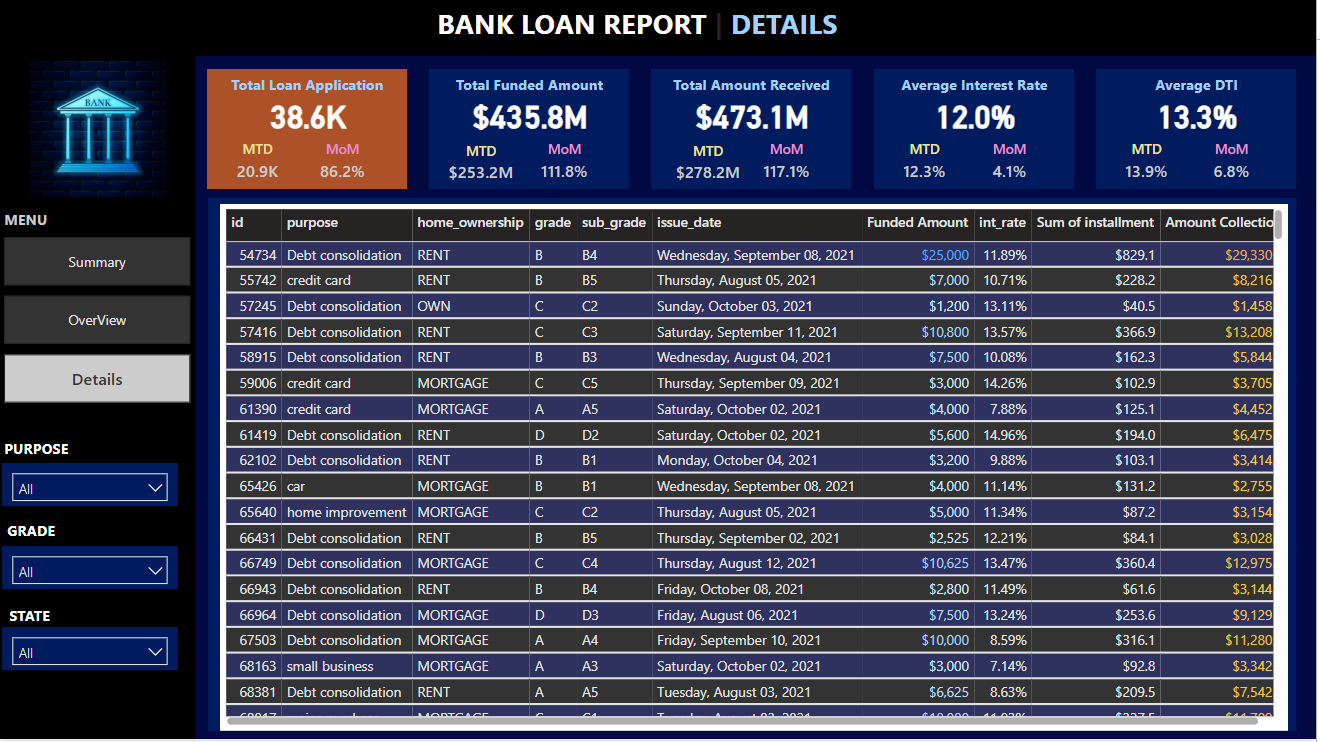

This screenshot's page, from the dashboard's own definition file:
{"tool":"powerbi","page":{"name":"Details","canvas":[1280,720],"ordinal":2},"visuals":[{"type":"shape","box":[0,52.5,191.5,667.7],"z":0},{"type":"textbox","box":[4.5,583.4,187.9,28.9],"z":0,"group":"g7"},{"type":"shape","box":[0,0,1280,55],"z":1000},{"type":"slicer","fields":{"Values":["Bank_Loan_Data.address_state"]},"box":[2.7,610.4,171.4,42.4],"z":1000,"group":"g7"},{"type":"textbox","box":[421.2,0,452.3,52.5],"z":2000},{"type":"slicer","fields":{"Values":["Bank_Loan_Data.purpose"]},"box":[2.7,450.6,171.4,42.4],"z":2000,"group":"g7"},{"type":"group","id":"g1","title":"Group 1","box":[202.3,68.1,195.5,116.7],"z":3000},{"type":"shape","box":[202.3,68.1,194.5,116.7],"z":3000,"group":"g1"},{"type":"shape","box":[418.2,68.1,194.5,116.7],"z":3000,"group":"g2"},{"type":"shape","box":[634.2,68.1,194.5,116.7],"z":3000,"group":"g3"},{"type":"shape","box":[850.1,68.1,194.5,116.7],"z":3000,"group":"g4"},{"type":"shape","box":[1066,68.1,194.5,116.7],"z":3000,"group":"g5"},{"type":"slicer","fields":{"Values":["Bank_Loan_Data.grade"]},"box":[2.7,531.4,171.4,42.4],"z":3000,"group":"g7"},{"type":"group","id":"g2","title":"Group 1","box":[418.2,68.1,195.5,116.7],"z":4000},{"type":"textbox","box":[2.7,500.6,187.9,28.9],"z":4000,"group":"g7"},{"type":"group","id":"g3","title":"Group 1","box":[634.2,68.1,195.5,116.7],"z":5000},{"type":"group","id":"g4","title":"Group 1","box":[850.1,68.1,195.5,116.7],"z":6000},{"type":"textbox","box":[0,421.4,188.1,28.9],"z":6000,"group":"g7"},{"type":"group","id":"g5","title":"Group 1","box":[1066,68.1,195.5,116.7],"z":7000},{"type":"textbox","box":[0,199.3,200,29.2],"z":7000,"group":"g6"},{"type":"shape","box":[203.1,193.4,1058.4,518],"z":7500},{"type":"tableEx","fields":{"Values":["Bank_Loan_Data.id","Bank_Loan_Data.purpose","Bank_Loan_Data.home_ownership","Bank_Loan_Data.grade","Bank_Loan_Data.sub_grade","Bank_Loan_Data.issue_date","Sum(Bank_Loan_Data.loan_amount)","Bank_Loan_Data.int_rate","Sum(Bank_Loan_Data.installment)","Sum(Bank_Loan_Data.total_payment)"]},"box":[214.8,199.2,1038,512.2],"z":8001},{"type":"group","id":"g6","title":"Group 3","box":[0,55.4,200,597.3],"z":8002},{"type":"image","box":[10.7,55.4,171.7,141.9],"z":9000,"group":"g6"},{"type":"card","fields":{"Values":["Analysis.Total_application"]},"box":[203.3,87.6,194.5,49.6],"z":9000,"group":"g1"},{"type":"card","fields":{"Values":["Analysis.Total funded amount"]},"box":[419.2,87.6,194.5,49.6],"z":9000,"group":"g2"},{"type":"card","fields":{"Values":["Analysis.Total Amount Received"]},"box":[635.2,87.6,194.5,49.6],"z":9000,"group":"g3"},{"type":"card","fields":{"Values":["Analysis.Avg Int Rate"]},"box":[851.1,87.6,194.5,49.6],"z":9000,"group":"g4"},{"type":"card","fields":{"Values":["Analysis.AVG DTI"]},"box":[1067,87.6,194.5,49.6],"z":9000,"group":"g5"},{"type":"pageNavigator","box":[4.9,231.3,181.7,163.3],"z":11001},{"type":"group","id":"g7","title":"Group 2","box":[0,421.4,192.4,231.3],"z":11002,"group":"g6"},{"type":"textbox","box":[202.3,68.1,195.5,29.2],"z":13000,"group":"g1"},{"type":"textbox","box":[418.2,68.1,195.5,29.2],"z":13000,"group":"g2"},{"type":"textbox","box":[634.2,68.1,195.5,29.2],"z":13000,"group":"g3"},{"type":"textbox","box":[850.1,68.1,195.5,29.2],"z":13000,"group":"g4"},{"type":"textbox","box":[1066,68.1,195.5,29.2],"z":13000,"group":"g5"},{"type":"card","title":"MTD","fields":{"Values":["Analysis.MTD Loan Application"]},"box":[217.9,137.2,67.1,47.7],"z":14000,"group":"g1"},{"type":"card","title":"MTD","fields":{"Values":["Analysis.MTD AVG int rate"]},"box":[865.7,137.2,67.1,47.7],"z":14000,"group":"g4"},{"type":"card","title":"MTD","fields":{"Values":["Analysis.MTD AVG DTI"]},"box":[1081.6,137.2,67.1,47.7],"z":14000,"group":"g5"},{"type":"card","title":"MTD","fields":{"Values":["Analysis.MTD funded application"]},"box":[430.7,139,75.9,45.7],"z":14000,"group":"g2"},{"type":"card","title":"MTD","fields":{"Values":["Analysis.MTD Received Amount"]},"box":[650.8,139,77.8,45.7],"z":14000,"group":"g3"},{"type":"card","title":"MoM","fields":{"Values":["Analysis.MoM loan Application"]},"box":[300.5,137.2,67.1,47.7],"z":15000,"group":"g1"},{"type":"card","title":"MoM","fields":{"Values":["Analysis.MoM Funded Amount"]},"box":[516.4,137.2,67.1,47.7],"z":15000,"group":"g2"},{"type":"card","title":"MoM","fields":{"Values":["Analysis.MoM Received Amount"]},"box":[732.4,137.2,67.1,47.7],"z":15000,"group":"g3"},{"type":"card","title":"MoM","fields":{"Values":["Analysis.MoM AVG Int Rate"]},"box":[948.3,137.2,67.1,47.7],"z":15000,"group":"g4"},{"type":"card","title":"MoM","fields":{"Values":["Analysis.MoM AVG DTI"]},"box":[1164.2,137.2,67.1,47.7],"z":15000,"group":"g5"}]}

Visuals, with their boxes in screenshot pixels (x1, y1, x2, y2), scaled from the page's 1280x720 canvas onto the 1320x742 screenshot:
shape: [x1=0, y1=54, x2=197, y2=741]
textbox: [x1=5, y1=601, x2=198, y2=631]
shape: [x1=0, y1=0, x2=1319, y2=57]
slicer - Bank_Loan_Data.address_state: [x1=3, y1=629, x2=180, y2=673]
textbox: [x1=434, y1=0, x2=901, y2=54]
slicer - Bank_Loan_Data.purpose: [x1=3, y1=464, x2=180, y2=508]
"Group 1" group: [x1=209, y1=70, x2=410, y2=190]
shape: [x1=209, y1=70, x2=409, y2=190]
shape: [x1=431, y1=70, x2=632, y2=190]
shape: [x1=654, y1=70, x2=855, y2=190]
shape: [x1=877, y1=70, x2=1077, y2=190]
shape: [x1=1099, y1=70, x2=1300, y2=190]
slicer - Bank_Loan_Data.grade: [x1=3, y1=548, x2=180, y2=591]
"Group 1" group: [x1=431, y1=70, x2=633, y2=190]
textbox: [x1=3, y1=516, x2=197, y2=546]
"Group 1" group: [x1=654, y1=70, x2=856, y2=190]
"Group 1" group: [x1=877, y1=70, x2=1078, y2=190]
textbox: [x1=0, y1=434, x2=194, y2=464]
"Group 1" group: [x1=1099, y1=70, x2=1301, y2=190]
textbox: [x1=0, y1=205, x2=206, y2=235]
shape: [x1=209, y1=199, x2=1301, y2=733]
tableEx - Bank_Loan_Data.id x Bank_Loan_Data.purpose: [x1=222, y1=205, x2=1292, y2=733]
"Group 3" group: [x1=0, y1=57, x2=206, y2=673]
image: [x1=11, y1=57, x2=188, y2=203]
card - Analysis.Total_application: [x1=210, y1=90, x2=410, y2=141]
card - Analysis.Total funded amount: [x1=432, y1=90, x2=633, y2=141]
card - Analysis.Total Amount Received: [x1=655, y1=90, x2=856, y2=141]
card - Analysis.Avg Int Rate: [x1=878, y1=90, x2=1078, y2=141]
card - Analysis.AVG DTI: [x1=1100, y1=90, x2=1301, y2=141]
pageNavigator: [x1=5, y1=238, x2=192, y2=407]
"Group 2" group: [x1=0, y1=434, x2=198, y2=673]
textbox: [x1=209, y1=70, x2=410, y2=100]
textbox: [x1=431, y1=70, x2=633, y2=100]
textbox: [x1=654, y1=70, x2=856, y2=100]
textbox: [x1=877, y1=70, x2=1078, y2=100]
textbox: [x1=1099, y1=70, x2=1301, y2=100]
"MTD" card: [x1=225, y1=141, x2=294, y2=191]
"MTD" card: [x1=893, y1=141, x2=962, y2=191]
"MTD" card: [x1=1115, y1=141, x2=1185, y2=191]
"MTD" card: [x1=444, y1=143, x2=522, y2=190]
"MTD" card: [x1=671, y1=143, x2=751, y2=190]
"MoM" card: [x1=310, y1=141, x2=379, y2=191]
"MoM" card: [x1=533, y1=141, x2=602, y2=191]
"MoM" card: [x1=755, y1=141, x2=824, y2=191]
"MoM" card: [x1=978, y1=141, x2=1047, y2=191]
"MoM" card: [x1=1201, y1=141, x2=1270, y2=191]
